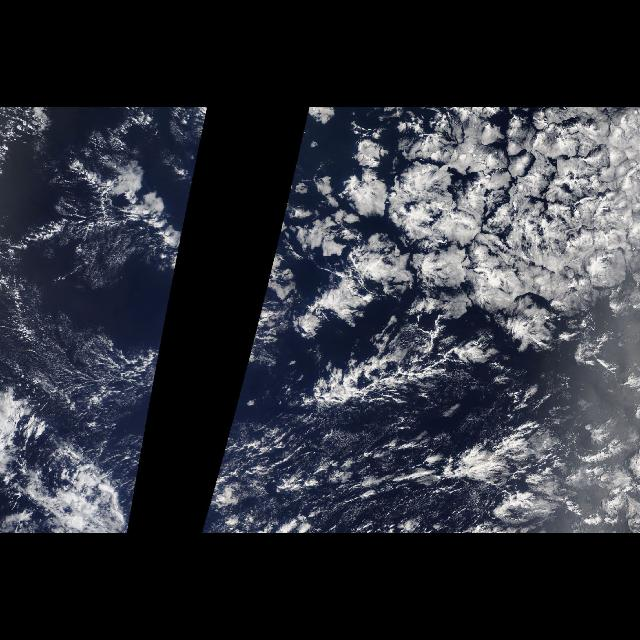Fish: (286, 332, 497, 412)
Flower: (292, 110, 640, 342)
Gravel: (7, 271, 148, 434)
Sugar: (0, 235, 164, 431)
